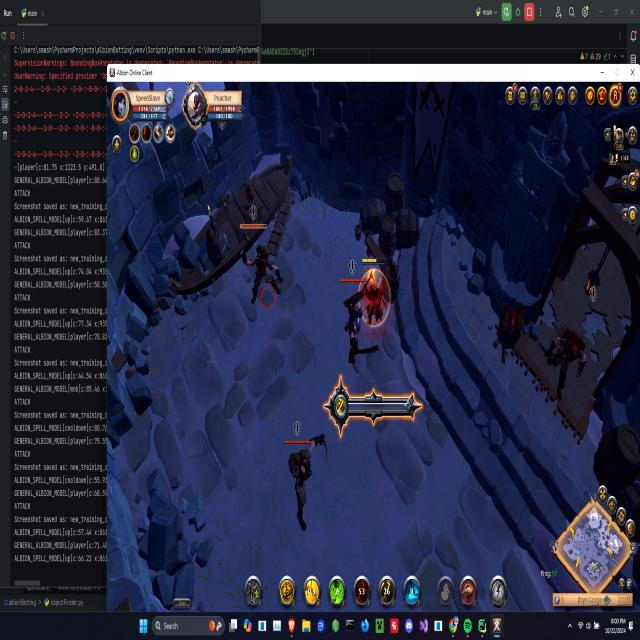ore: (338, 254, 380, 375), (283, 422, 326, 535), (238, 217, 282, 310), (546, 323, 590, 382)
red: (359, 255, 386, 314)
